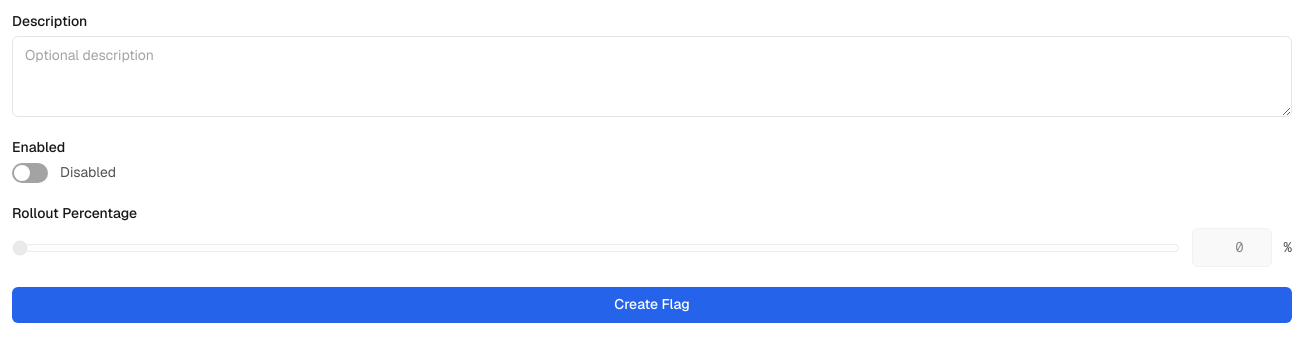
Scenario: FlagForm › rollout sync › syncs slider to number input when dragging
# Enable the flag first so rollout inputs are not disabled
Click the switch.
click(30, 172)  # box x1=12 y1=162 x2=48 y2=182
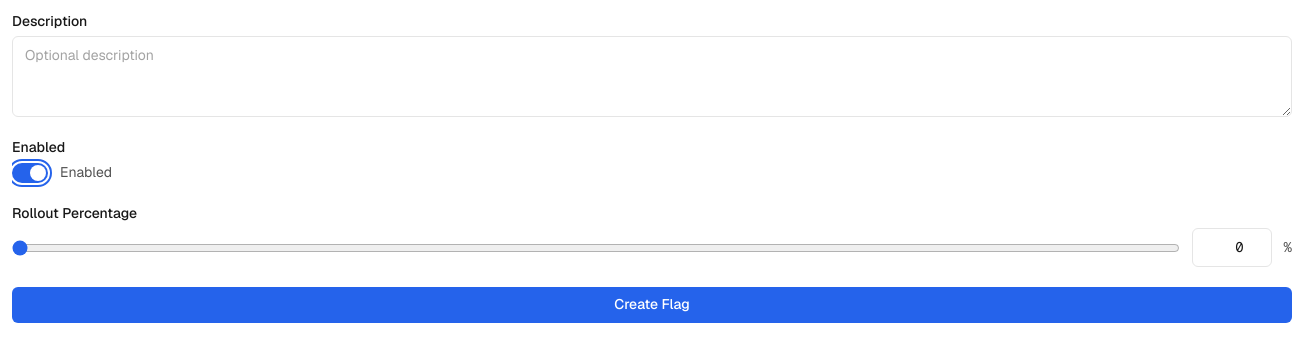
Set the slider named "Rollout slider" to "75" at (884, 248), box x1=12 y1=240 x2=1180 y2=256
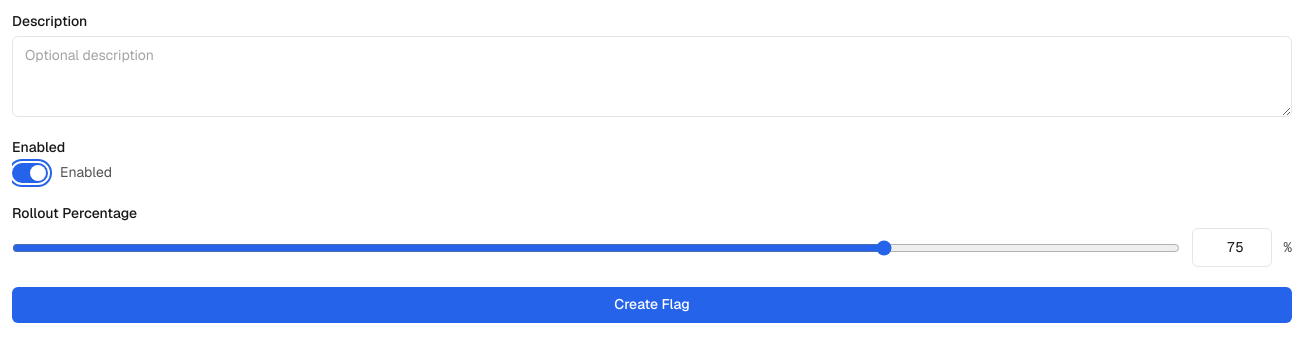
Now the number field named "Rollout percentage" holds "75", box x1=1192 y1=228 x2=1272 y2=267
